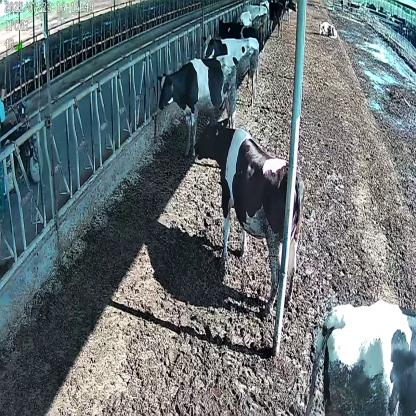cow: (193, 117, 304, 311), (156, 52, 238, 158), (202, 35, 260, 107), (318, 21, 338, 40)
